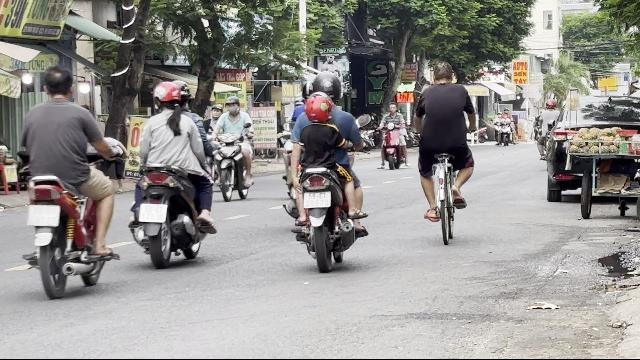helmet: (152, 81, 184, 111), (311, 71, 341, 101), (304, 93, 332, 123), (170, 80, 190, 106), (224, 96, 240, 115)
licenseplate: (27, 205, 59, 227), (139, 204, 167, 222), (304, 192, 330, 208)
motorcyclist: (15, 64, 121, 296), (279, 68, 369, 268), (127, 78, 217, 268), (208, 94, 256, 200)
nohelmet: (40, 66, 74, 100)
